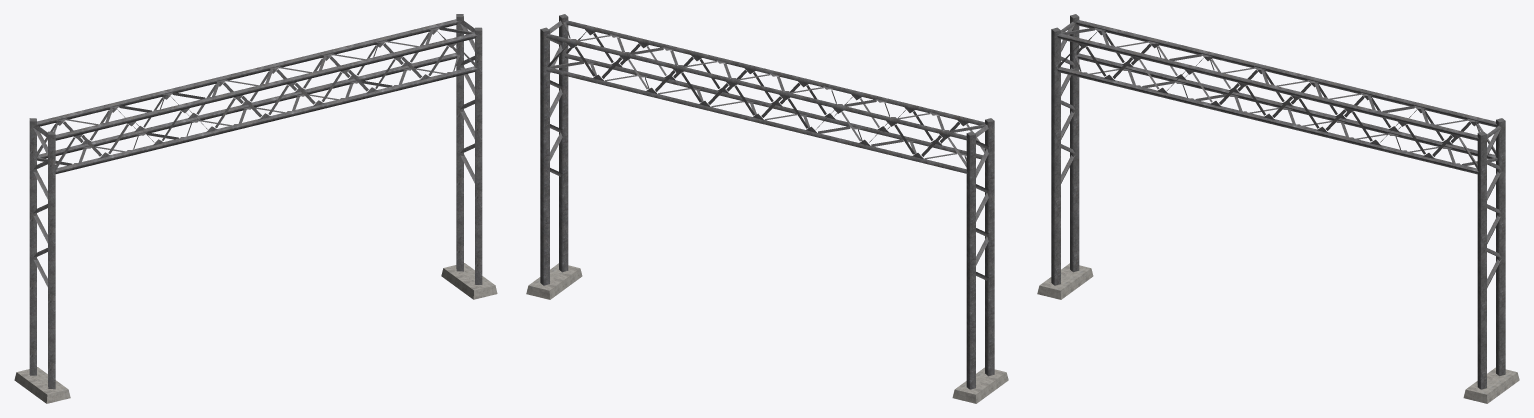
Rendered from big_none.FBX.
3 views of the same model, side by side, from view 1: azimuth 30°, elevation 25°; view 2: azimuth 150°, elevation 25°; view 3: azimuth 330°, elevation 25° (orthographic).
Visible parts, largest first — view 1: polySurface2016; view 2: polySurface2016; view 3: polySurface2016.
Boxes of the visible parts, box(x1,y1,x2,y2) form: polySurface2016: box(14, 14, 497, 403); polySurface2016: box(526, 14, 1008, 403); polySurface2016: box(1037, 14, 1519, 403).
Bounding box in the file's own units: 6.65 × 3.7 × 0.8268.
